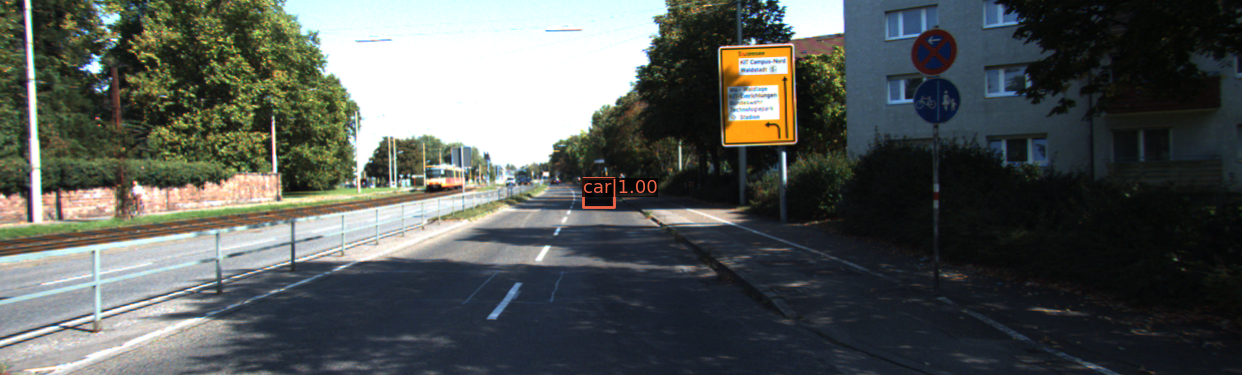car: (584, 180, 615, 209)
